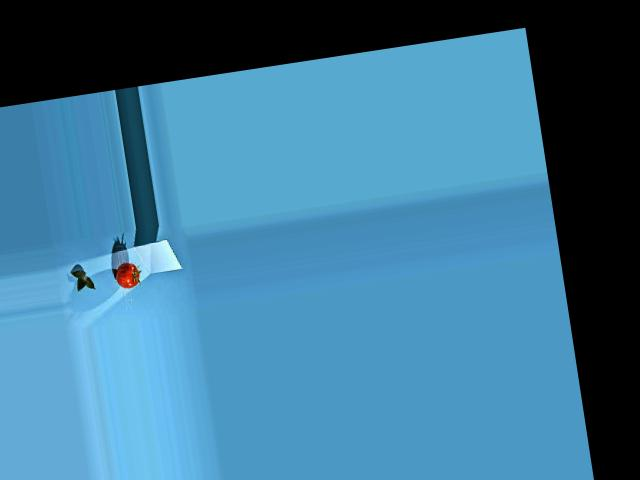tomato: (114, 260, 141, 290)
